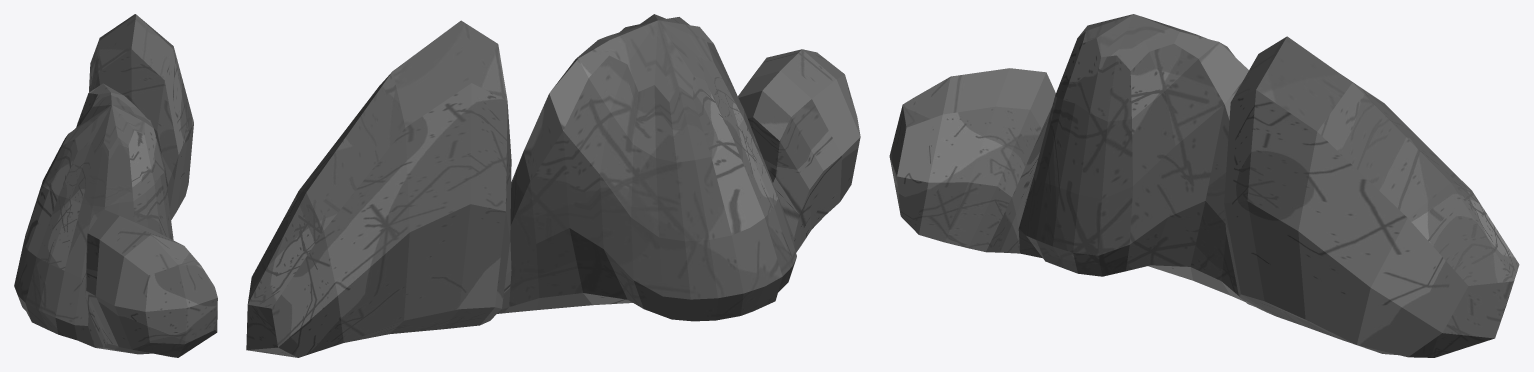
Rendered from Rock Formation 1.fbx.
3 views of the same model, side by side, from view 1: azimuth 30°, elevation 25°; view 2: azimuth 150°, elevation 25°; view 3: azimuth 270°, elevation 25° (orthographic). The views are drawn at different scales.
Visible parts, largest first — view 1: Cylinder; view 2: Cylinder; view 3: Cylinder.
Boxes of the visible parts, x1,y1,x2,y2 form: Cylinder: (14,14,217,357); Cylinder: (246,14,860,357); Cylinder: (889,14,1519,357).
Bounding box in the file's own units: 328 × 269 × 533.
